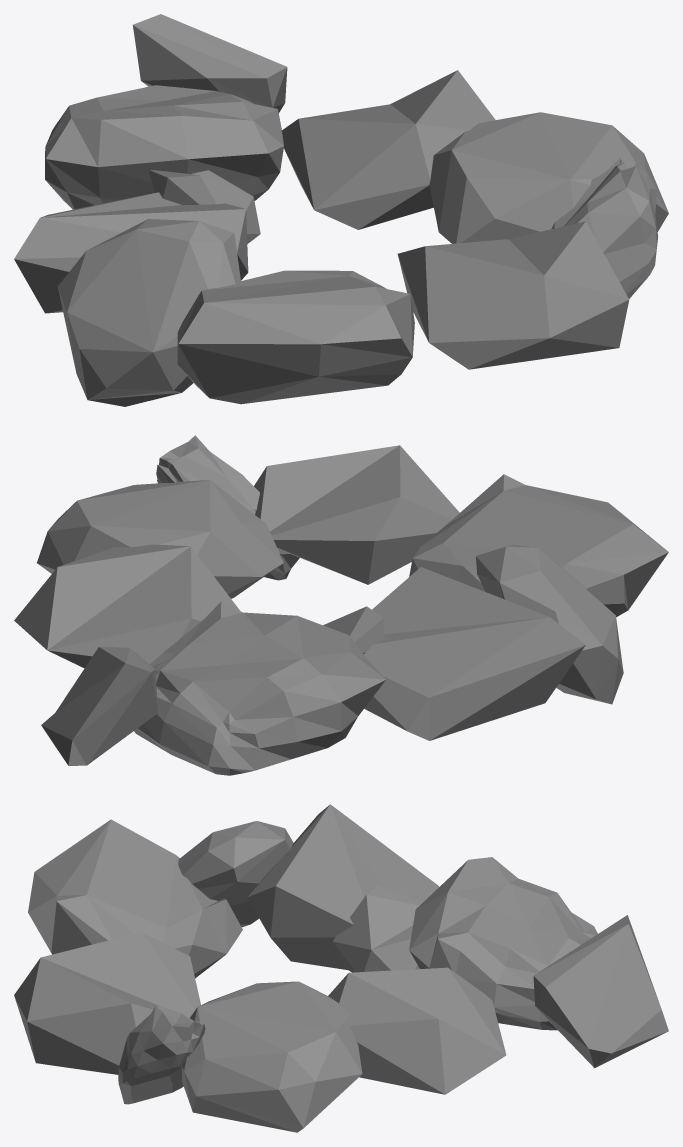
File: rockbarrier_02_a.fbx
The picture shows the model from 3 angles, top to bottom: view 1: azimuth 30°, elevation 25°; view 2: azimuth 150°, elevation 25°; view 3: azimuth 270°, elevation 25°; orthographic projection. The views are drawn at different scales.
Visible parts, largest first — view 1: RockBarrier_02_a; view 2: RockBarrier_02_a; view 3: RockBarrier_02_a.
Boxes of the visible parts, x1,y1,x2,y2 form: RockBarrier_02_a: (14, 14, 668, 406); RockBarrier_02_a: (14, 435, 668, 775); RockBarrier_02_a: (14, 804, 668, 1132).
Size of the model in its own units: 72.6 by 78.07 by 17.73.
